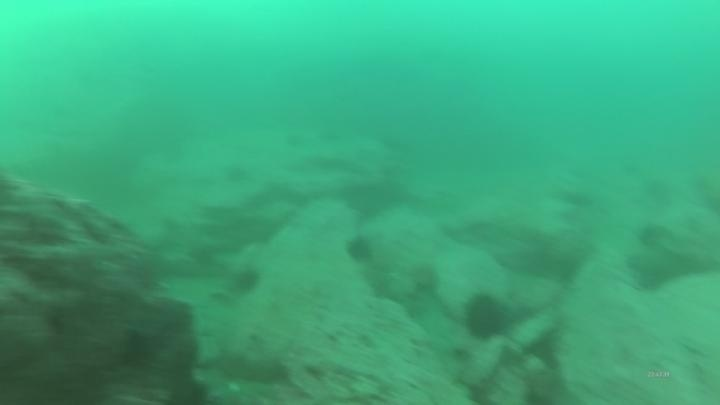echinus: (461, 291, 511, 344), (630, 260, 672, 295), (229, 264, 264, 298), (343, 233, 376, 267)
